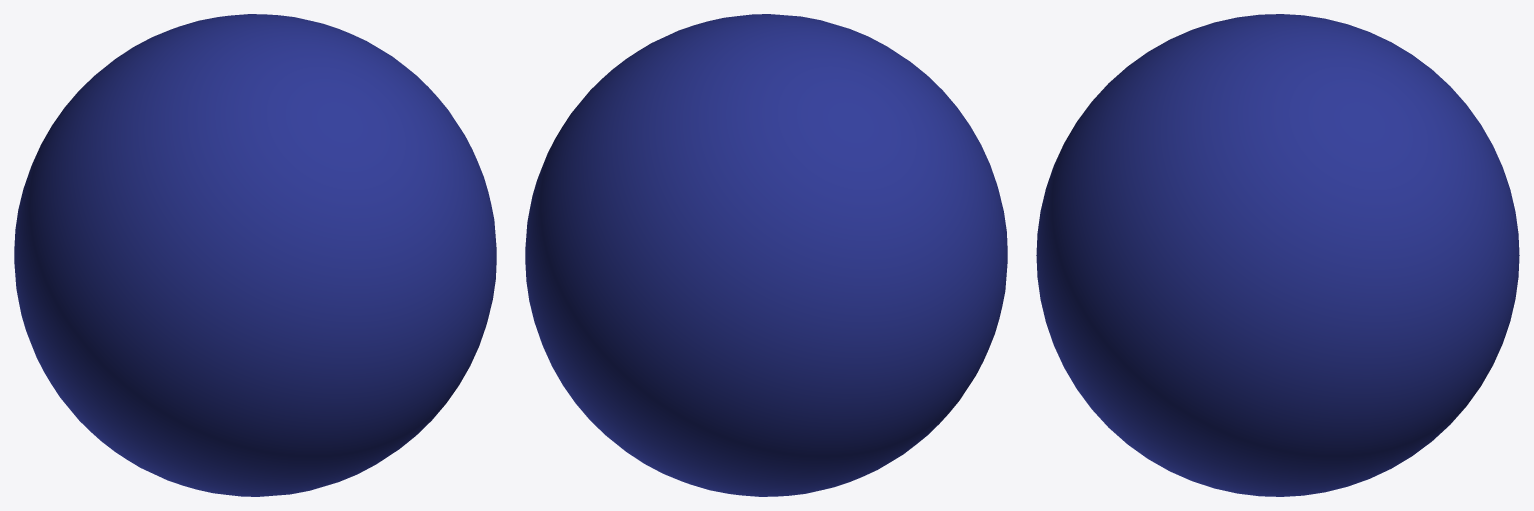
File: Blue_ball v2.fbx
3 renders of one model, left to right at view 1: azimuth 30°, elevation 25°; view 2: azimuth 150°, elevation 25°; view 3: azimuth 270°, elevation 25°, orthographic.
Parts seen in each view (by area): view 1: Body1; view 2: Body1; view 3: Body1.
Part boxes in pixels (left/top/right/bottom): Body1: left=14, top=14, right=496, bottom=496; Body1: left=525, top=14, right=1007, bottom=496; Body1: left=1036, top=14, right=1519, bottom=496.
Bounding box in the file's own units: 50 × 49.99 × 50.
